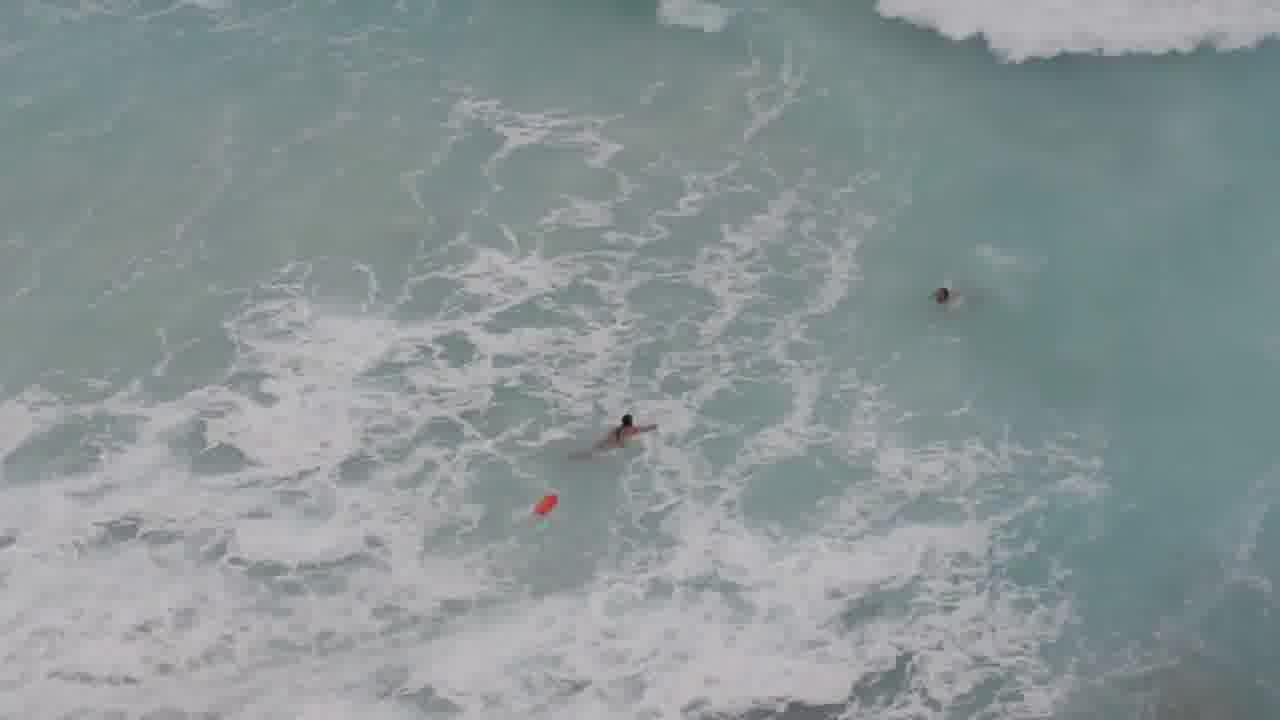swimmer: (601, 407, 658, 449), (926, 276, 960, 313)
